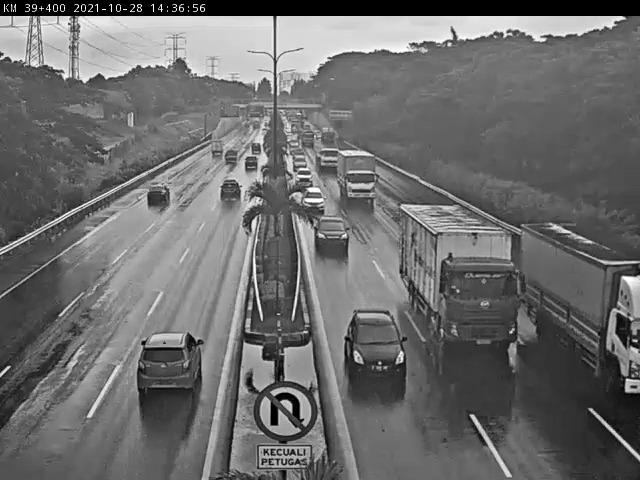big truck: (521, 250, 640, 390), (417, 228, 539, 362), (333, 150, 377, 201), (323, 136, 338, 168)
car: (111, 334, 212, 391), (348, 303, 404, 376), (315, 216, 354, 254), (217, 177, 246, 218), (137, 184, 166, 211), (303, 178, 322, 205), (296, 163, 309, 183), (223, 150, 237, 167), (243, 159, 257, 176)
small truck: (209, 139, 223, 160)
